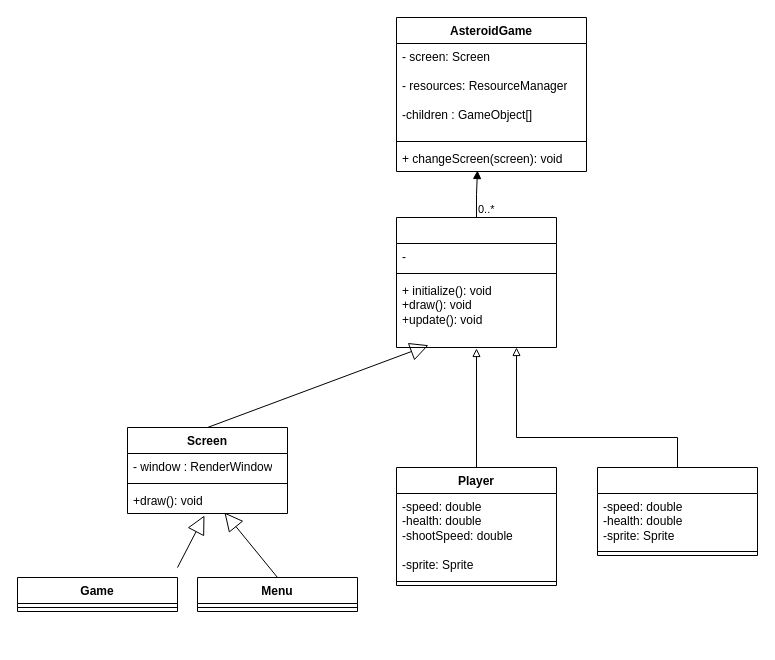
Some shapes in this 775 by 660 pixel diagram are drawn without their labels. The shapes that lost their labels are listed below. From the top down, each one's box as (x1, y1, x2, y2) in pixels, then its label:
(396, 216, 556, 348): GameObject
(596, 466, 758, 556): Enemy
